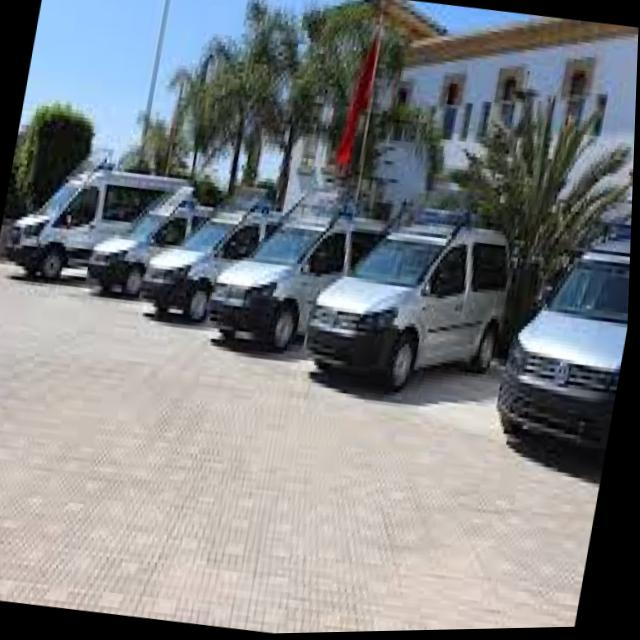gendarme car: (300, 189, 528, 414), (482, 202, 634, 496)
